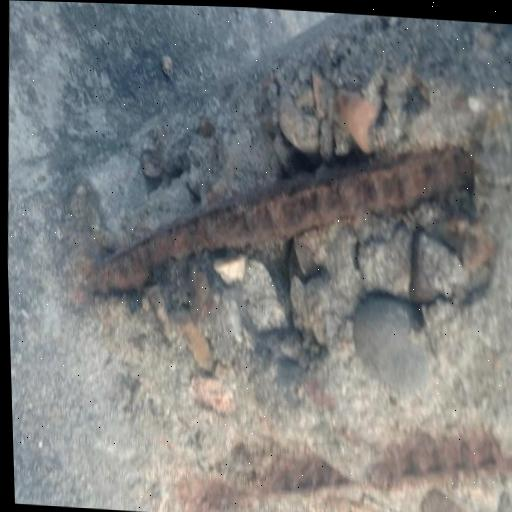exposed_rebar: (86, 146, 473, 292)
